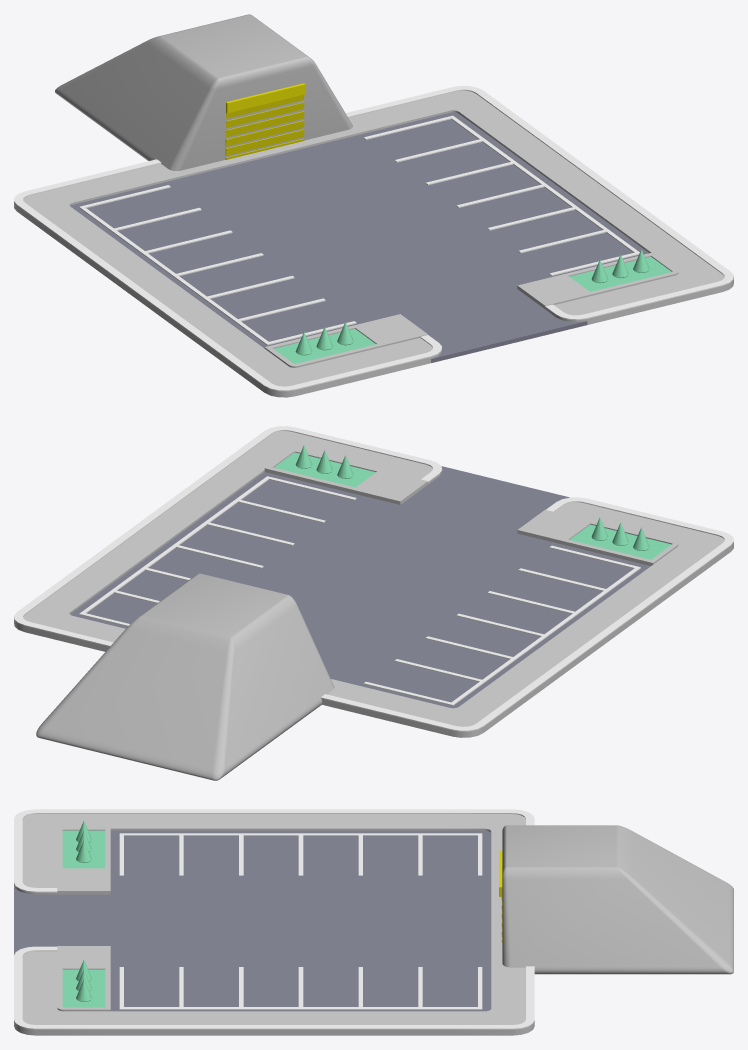
The model's file is ParkingB2.fbx.
3 views of the same model, one above another, from view 1: azimuth 30°, elevation 25°; view 2: azimuth 150°, elevation 25°; view 3: azimuth 270°, elevation 25° (orthographic). The views are drawn at different scales.
Parts seen in each view (by area): view 1: Road, Footpath, Box, Lines, Concretes, Door, Grass, Trees; view 2: Road, Box, Footpath, Lines, Concretes, Grass, Trees; view 3: Road, Box, Footpath, Lines, Concretes, Grass, Trees.
Part boxes in pixels (box(x1,y1,x2,y2)): Road: box(70, 112, 648, 362); Footpath: box(14, 90, 733, 397); Box: box(55, 14, 352, 170); Lines: box(14, 86, 733, 391); Concretes: box(264, 252, 678, 367); Door: box(225, 83, 305, 159); Grass: box(274, 257, 671, 363); Trees: box(295, 249, 649, 355); Road: box(70, 466, 650, 708); Box: box(36, 573, 334, 780); Footpath: box(14, 431, 733, 737); Lines: box(14, 426, 733, 731); Concretes: box(264, 449, 678, 565); Grass: box(274, 452, 671, 559); Trees: box(295, 445, 649, 550); Road: box(14, 830, 491, 1011); Box: box(502, 825, 733, 974); Footpath: box(14, 814, 534, 1035); Lines: box(14, 809, 534, 1029); Concretes: box(57, 827, 110, 1011); Grass: box(62, 830, 105, 1007); Trees: box(76, 821, 91, 1001).
Size of the model in its own units: 1179 by 216 by 1636.
